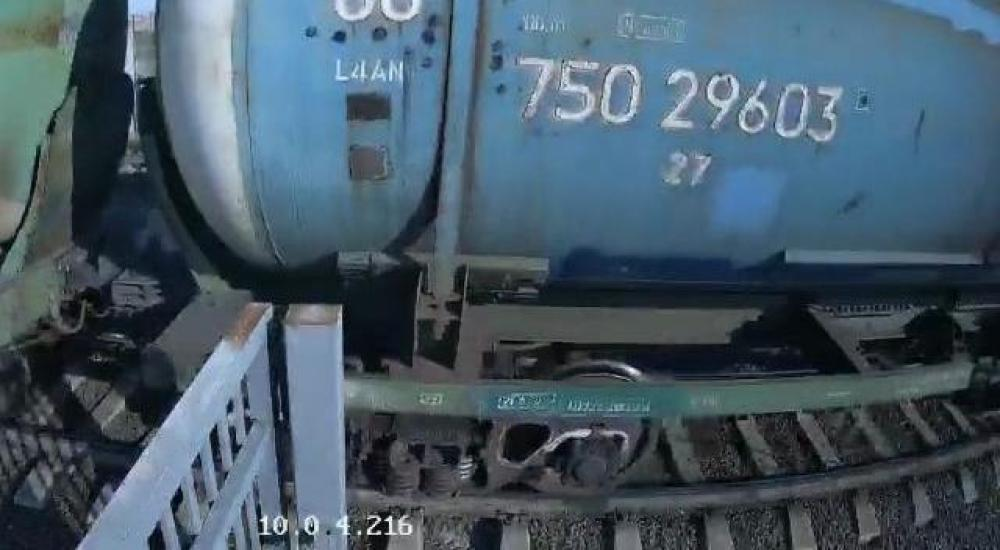Wagon-number: (514, 50, 848, 148)
